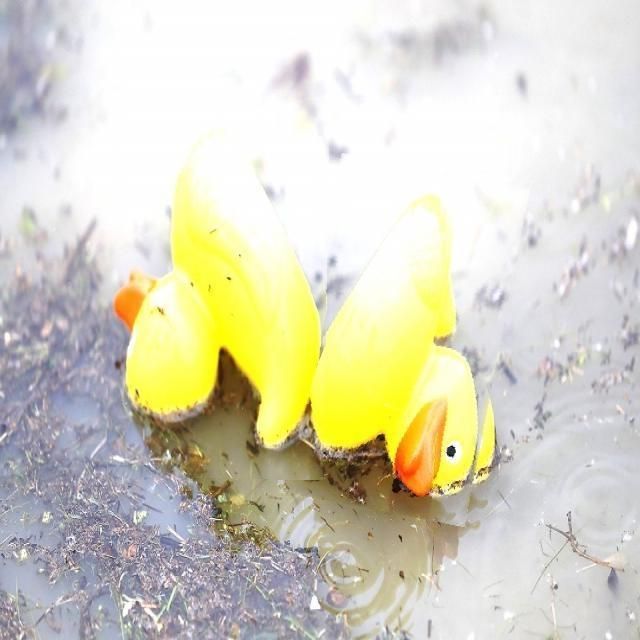rubber-duck: (125, 136, 318, 446), (310, 194, 493, 494)
